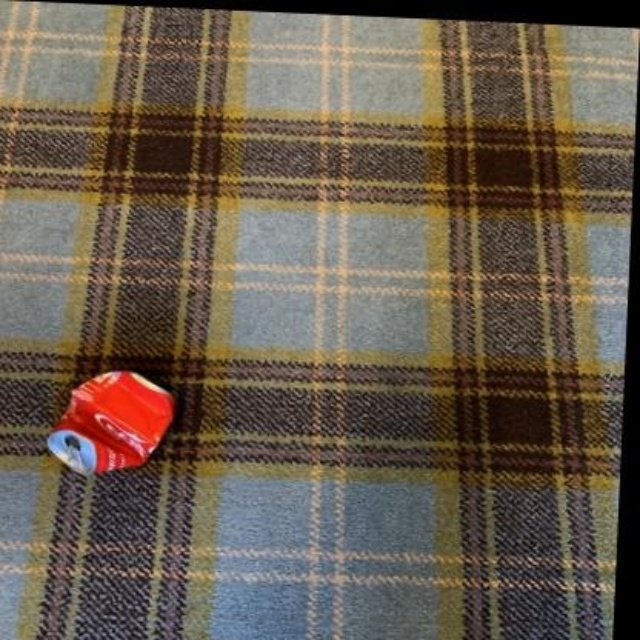trash: (48, 371, 172, 475)
